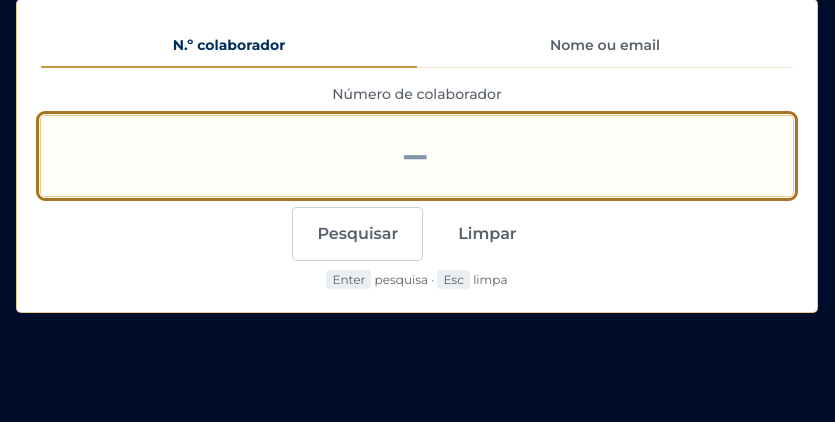
pesquisa por nome ou email › não pergunta ao servidor antes do primeiro espaço
Click the tab "Nome ou email" at x=605, y=46, box [417,24,793,68]
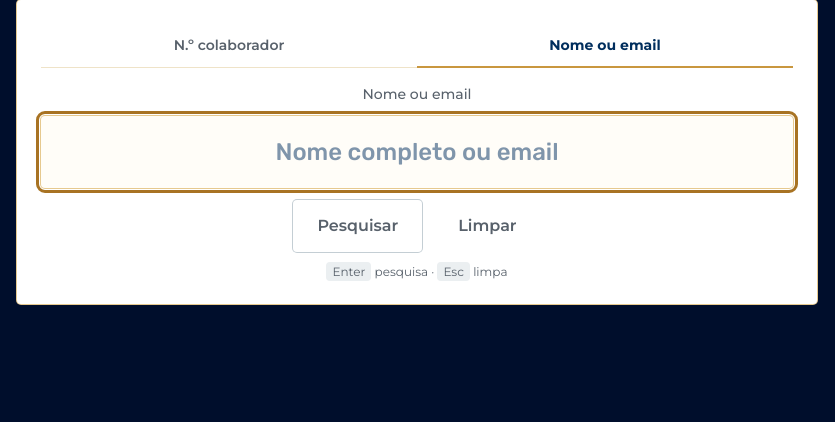
Type "Ana" into the field labelled "Nome ou email" at x=417, y=152, box [41,116,793,188]
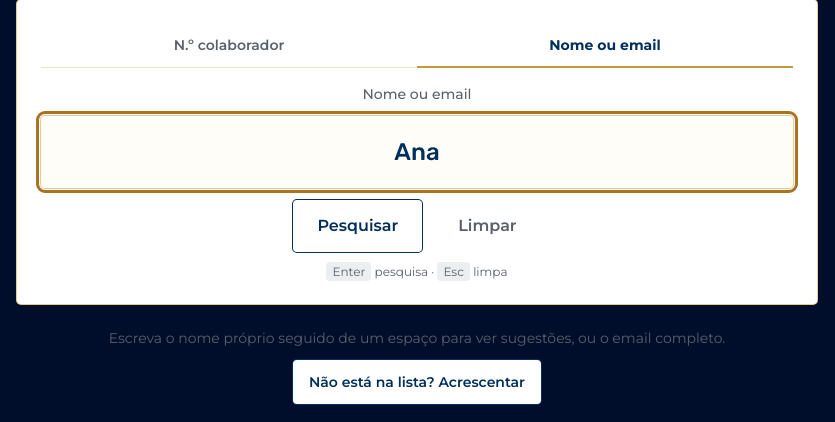
expect the text "Escreva o nome próprio seguido de um espaço" is shown: met, box [109,329,725,347]
